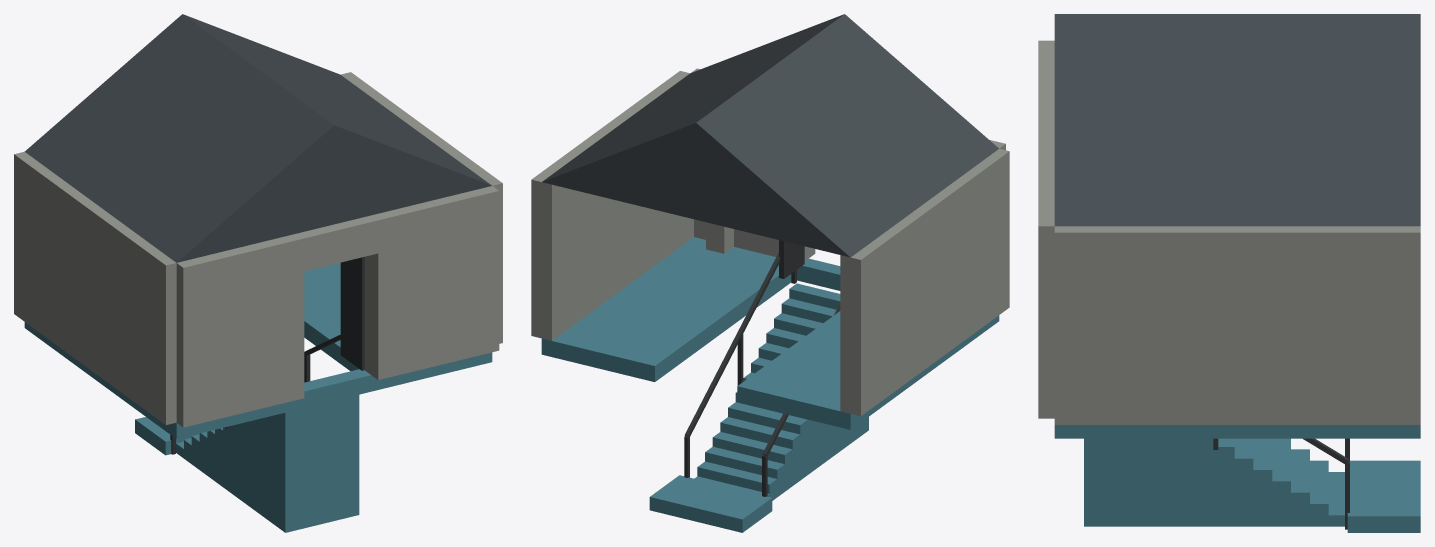
The model's file is HAR-015_MAUSOLEUM_ENTRY_PLAYABLE_BLOCKOUT.fbx.
The picture shows the model from 3 angles, left to right: view 1: azimuth 30°, elevation 25°; view 2: azimuth 150°, elevation 25°; view 3: azimuth 270°, elevation 25°; orthographic projection. The views are drawn at different scales.
Visible parts, largest first — view 1: HAR015_MausoleumFacadeSidesColumns, HAR015_PedimentRoof, MA_STAIR_AND_CRYPT_LANDING, HAR015_EntryFloorWithStairVoid, MA_IRON_LEAF_RIGHT_OPEN; view 2: HAR015_PedimentRoof, HAR015_MausoleumFacadeSidesColumns, HAR015_EntryFloorWithStairVoid, MA_STAIR_AND_CRYPT_LANDING, MA_IRON_LEAF_RIGHT_OPEN; view 3: HAR015_MausoleumFacadeSidesColumns, HAR015_PedimentRoof, MA_STAIR_AND_CRYPT_LANDING, HAR015_EntryFloorWithStairVoid.
Boxes of the visible parts, left/top/right/bottom form: HAR015_MausoleumFacadeSidesColumns: left=14, top=72, right=502, bottom=427; HAR015_PedimentRoof: left=24, top=14, right=491, bottom=262; MA_STAIR_AND_CRYPT_LANDING: left=135, top=334, right=359, bottom=532; HAR015_EntryFloorWithStairVoid: left=24, top=262, right=492, bottom=438; MA_IRON_LEAF_RIGHT_OPEN: left=340, top=257, right=364, bottom=370; HAR015_PedimentRoof: left=542, top=14, right=998, bottom=257; HAR015_MausoleumFacadeSidesColumns: left=531, top=68, right=1009, bottom=416; HAR015_EntryFloorWithStairVoid: left=541, top=237, right=999, bottom=429; MA_STAIR_AND_CRYPT_LANDING: left=649, top=252, right=868, bottom=532; MA_IRON_LEAF_RIGHT_OPEN: left=779, top=240, right=804, bottom=278; HAR015_MausoleumFacadeSidesColumns: left=1038, top=40, right=1420, bottom=424; HAR015_PedimentRoof: left=1054, top=14, right=1420, bottom=226; MA_STAIR_AND_CRYPT_LANDING: left=1084, top=438, right=1420, bottom=532; HAR015_EntryFloorWithStairVoid: left=1054, top=425, right=1420, bottom=438.
Bounding box in the file's own units: 6.4 × 7.4 × 5.23.
